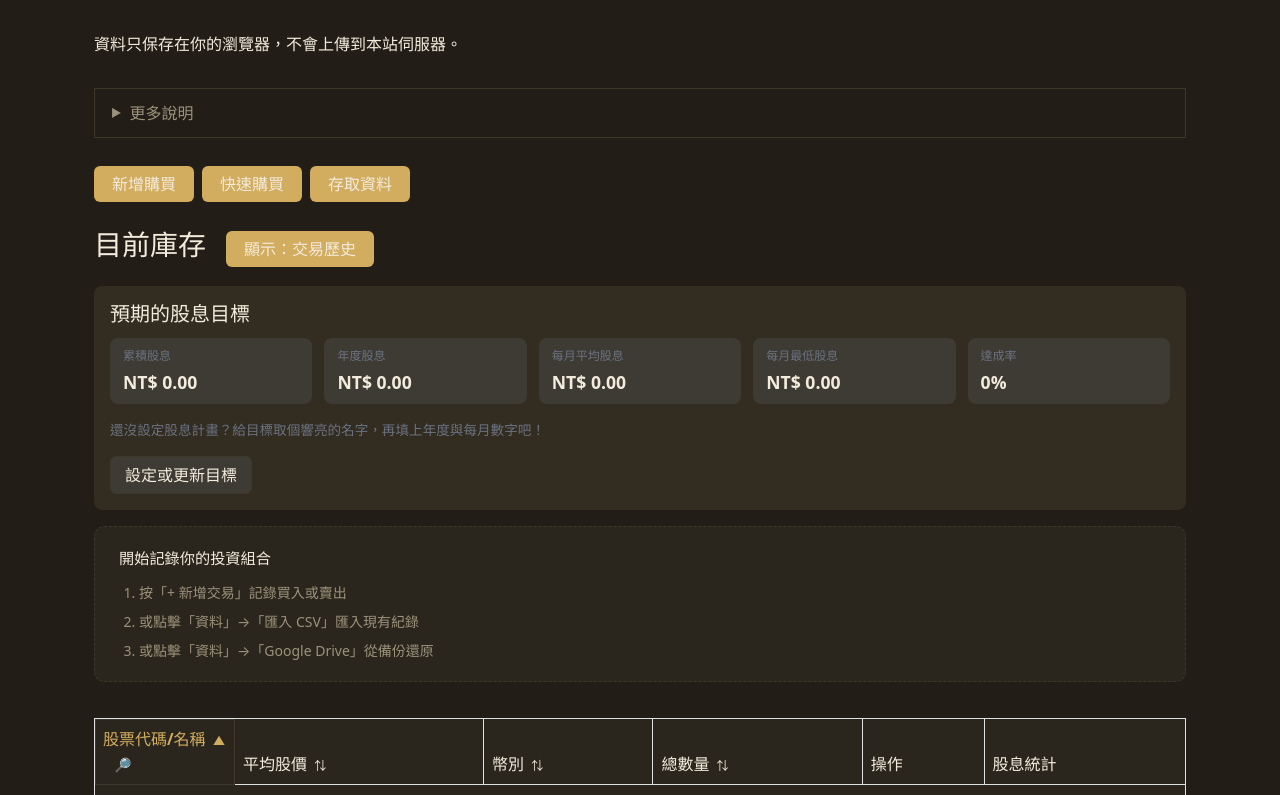
Test case: InventoryTab interactions › shows a short trust-banner summary with an expandable full notice
expect the text "資料只保存在你的瀏覽器，不會上傳到本站伺服器。" is shown: met, box x1=94 y1=33 x2=462 y2=55
Click the heading "更多說明" at (161, 113), box x1=129 y1=102 x2=193 y2=124
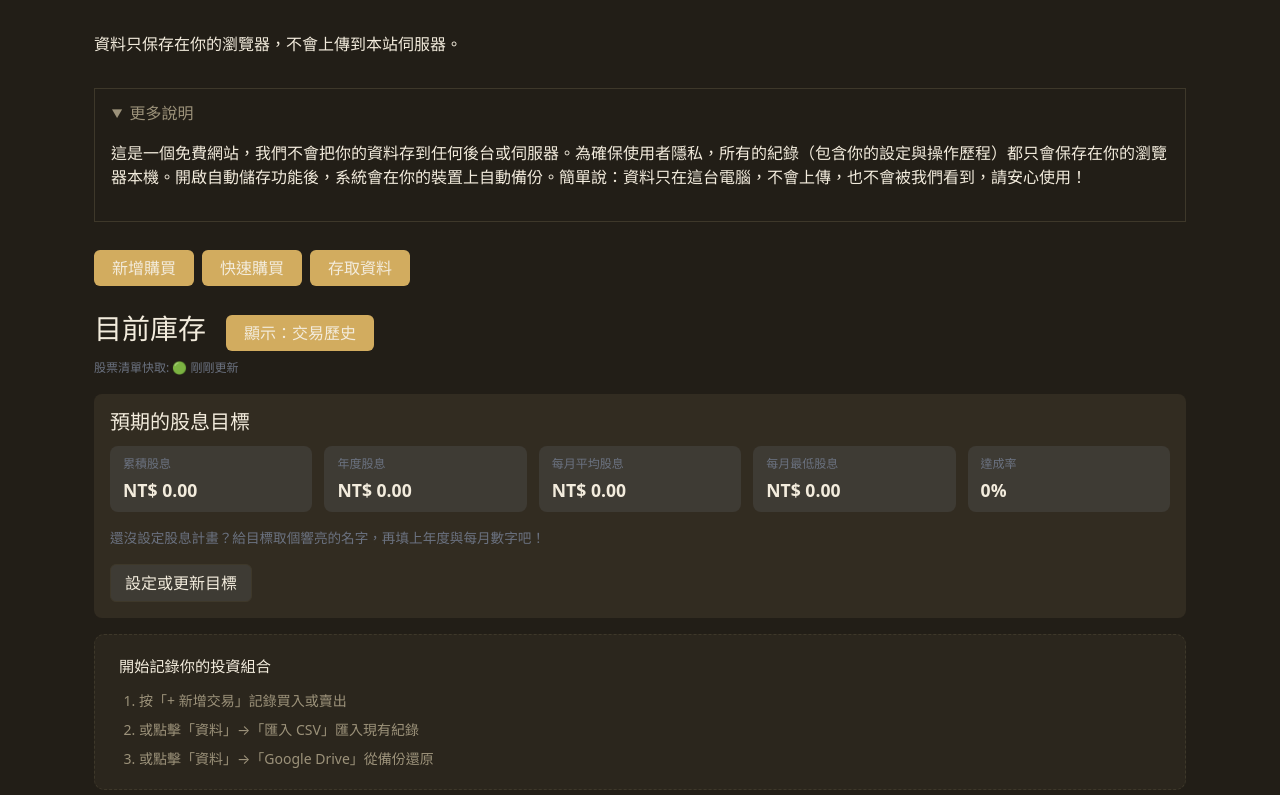
expect the text "簡單說：資料只在這台電腦" is shown: met, box x1=111 y1=142 x2=1167 y2=188
